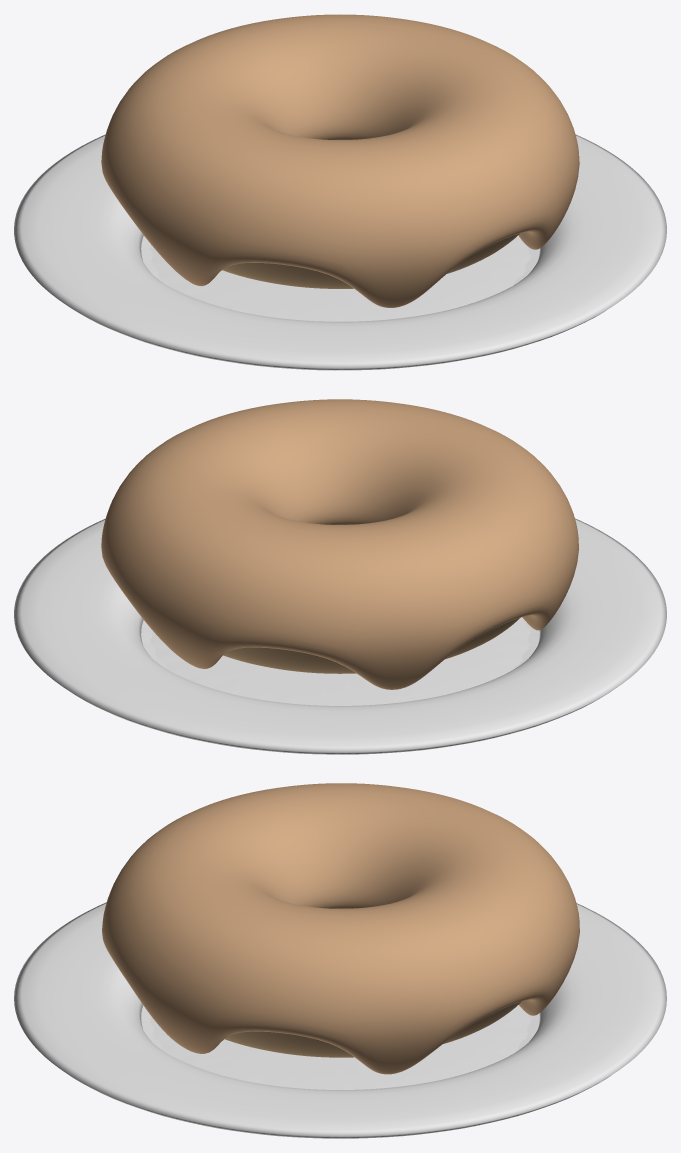
The model's file is Donut.fbx.
3 renders of one model, top to bottom at view 1: azimuth 30°, elevation 25°; view 2: azimuth 150°, elevation 25°; view 3: azimuth 270°, elevation 25°, orthographic.
Parts seen in each view (by area): view 1: donut, Circle.010, Torus.014; view 2: donut, Circle.010, Torus.014; view 3: donut, Circle.010, Torus.014.
Part boxes in pixels (x1=…): donut: x1=101, y1=14, x2=579, y2=307; Circle.010: x1=14, y1=134, x2=666, y2=370; Torus.014: x1=222, y1=233, x2=519, y2=288; donut: x1=101, y1=399, x2=578, y2=689; Circle.010: x1=14, y1=518, x2=666, y2=754; Torus.014: x1=223, y1=617, x2=520, y2=673; donut: x1=102, y1=783, x2=579, y2=1074; Circle.010: x1=14, y1=902, x2=666, y2=1138; Torus.014: x1=224, y1=1001, x2=521, y2=1057.
Size of the model in its own units: 0.2076 by 0.0594 by 0.2076.
